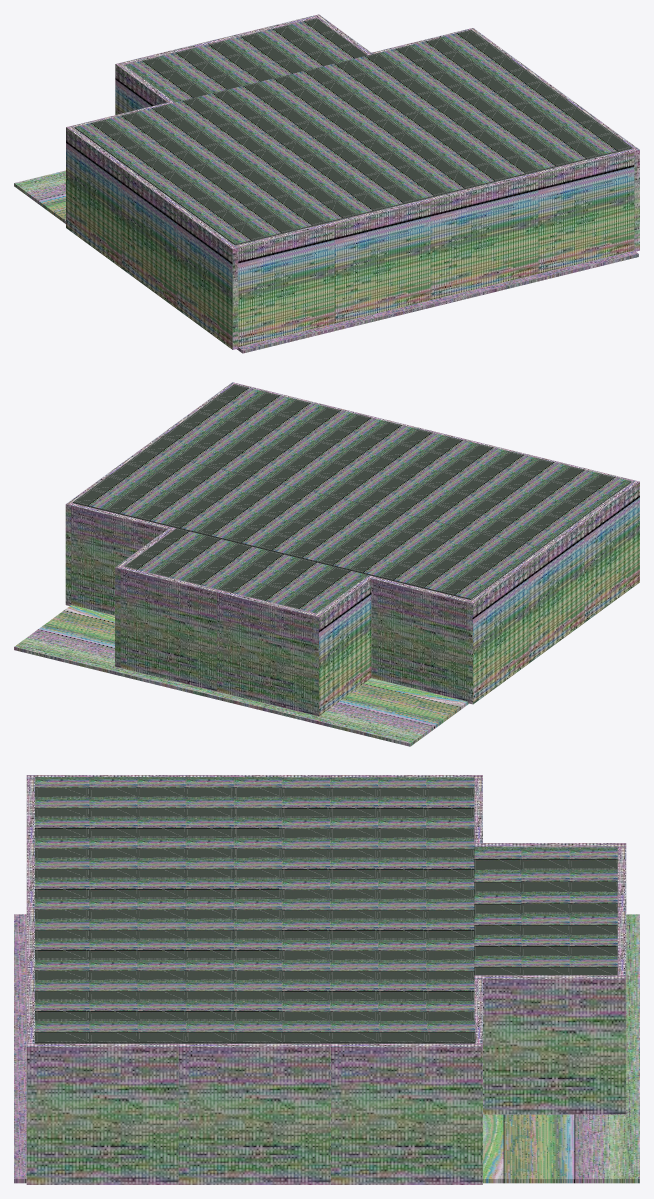
File: laboratory_environment.glb
The picture shows the model from 3 angles, top to bottom: view 1: azimuth 30°, elevation 25°; view 2: azimuth 150°, elevation 25°; view 3: azimuth 270°, elevation 25°; orthographic projection. The views are drawn at different scales.
Visible parts, largest first — view 1: roof (3) (×28), roof (2) (×28), roof (1) (×28), wall01 (15), wall01 (11), wall01 (14), wall01 (12), wall01 (9), wall01 (5), wall01 (6), floor (1), wall01 (1) (+51 smaller); view 2: roof (3) (×28), roof (1) (×28), roof (2) (×28), floor (1), wall01, wall01 (13), wall01 (4), wall01 (5), wall01 (1), wall01 (6), wall01 (3), wall01 (9) (+52 smaller); view 3: roof (3) (×28), roof (2) (×28), roof (1) (×28), wall01 (10), wall01 (8), wall01 (7), wall01 (2), floor (1), roof (4) (×2), roof (44), roof (33), roof (36) (+54 smaller).
Part boxes in pixels (left/top/right/bottom): roof (3) (×28): left=74, top=25, right=532, bottom=221; roof (2) (×28): left=92, top=38, right=549, bottom=230; roof (1) (×28): left=105, top=18, right=562, bottom=209; wall01 (15): left=428, top=172, right=538, bottom=299; wall01 (11): left=235, top=222, right=334, bottom=346; wall01 (14): left=331, top=198, right=430, bottom=323; wall01 (12): left=536, top=149, right=634, bottom=273; wall01 (9): left=177, top=207, right=238, bottom=349; wall01 (5): left=66, top=126, right=126, bottom=268; wall01 (6): left=121, top=166, right=182, bottom=308; floor (1): left=14, top=170, right=638, bottom=353; wall01 (1): left=115, top=62, right=174, bottom=114; roof (3) (×28): left=135, top=427, right=593, bottom=613; roof (1) (×28): left=105, top=419, right=562, bottom=605; roof (2) (×28): left=153, top=414, right=611, bottom=600; floor (1): left=14, top=605, right=468, bottom=746; wall01: left=217, top=590, right=315, bottom=714; wall01 (13): left=120, top=566, right=219, bottom=691; wall01 (4): left=371, top=576, right=470, bottom=701; wall01 (5): left=467, top=561, right=528, bottom=704; wall01 (1): left=313, top=575, right=373, bottom=716; wall01 (6): left=523, top=521, right=584, bottom=663; wall01 (3): left=71, top=503, right=170, bottom=615; wall01 (9): left=579, top=480, right=639, bottom=622; roof (3) (×28): left=89, top=777, right=617, bottom=1000; roof (2) (×28): left=89, top=777, right=569, bottom=1000; roof (1) (×28): left=137, top=797, right=617, bottom=1020; wall01 (10): left=26, top=1043, right=178, bottom=1184; wall01 (8): left=178, top=1043, right=330, bottom=1184; wall01 (7): left=331, top=1043, right=482, bottom=1184; wall01 (2): left=474, top=975, right=626, bottom=1114; floor (1): left=14, top=914, right=639, bottom=1183; roof (4) (×2): left=281, top=838, right=521, bottom=975; roof (44): left=35, top=1021, right=89, bottom=1043; roof (33): left=35, top=797, right=89, bottom=817; roof (36): left=35, top=858, right=89, bottom=878.
Size of the model in its own units: 18 by 4.4 by 17.51.
16 materials, 9 textured.
